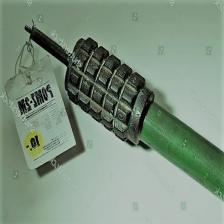POMZ2: (21, 16, 224, 204)
